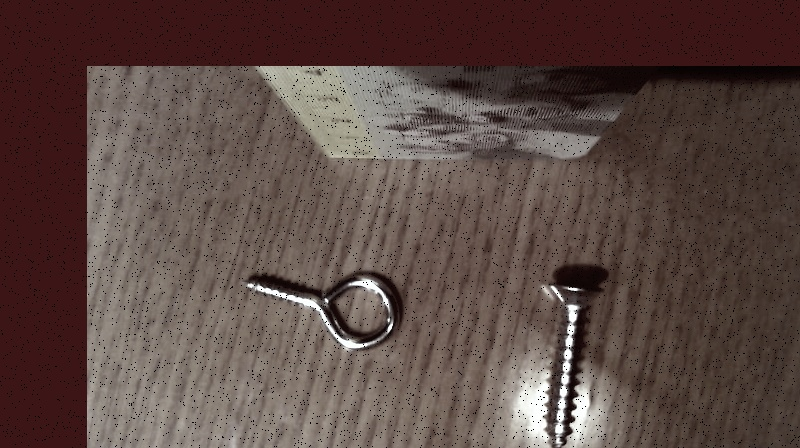O001: (233, 264, 405, 353)
S001: (536, 267, 609, 447)
